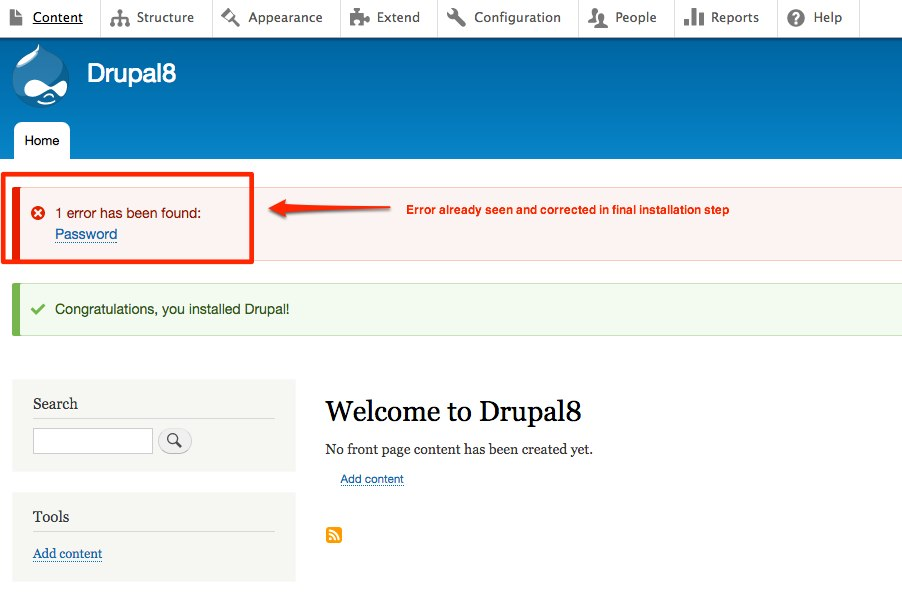error_message: (53, 204, 204, 243), (403, 202, 732, 218)
